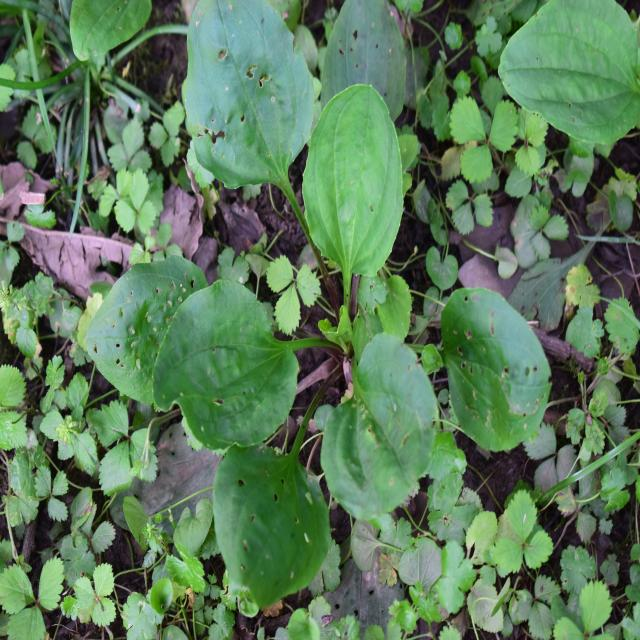plantain: (131, 46, 513, 554)
